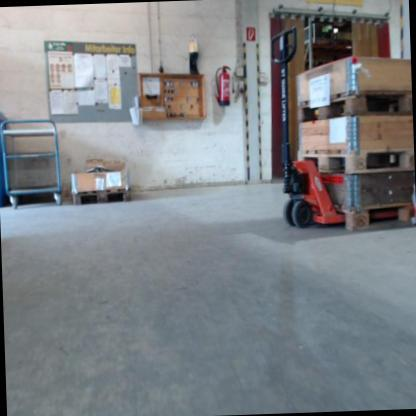pallet: (296, 88, 413, 126), (296, 144, 415, 179), (332, 199, 416, 233), (72, 186, 132, 207)
pallet_truck: (264, 14, 412, 229)
